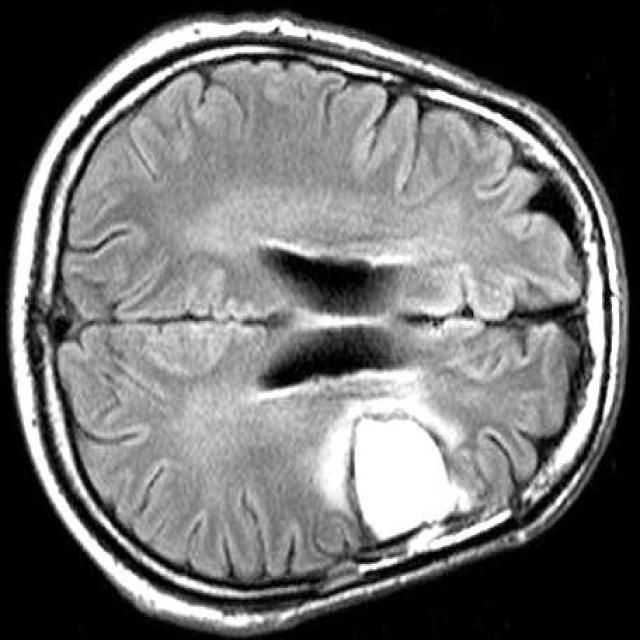tumor: (351, 416, 463, 544)
